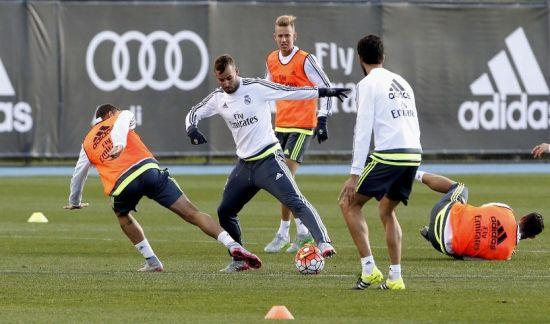bending: (63, 97, 266, 284)
down: (404, 166, 547, 268)
up: (182, 53, 354, 265), (339, 30, 426, 300), (252, 9, 336, 254)
